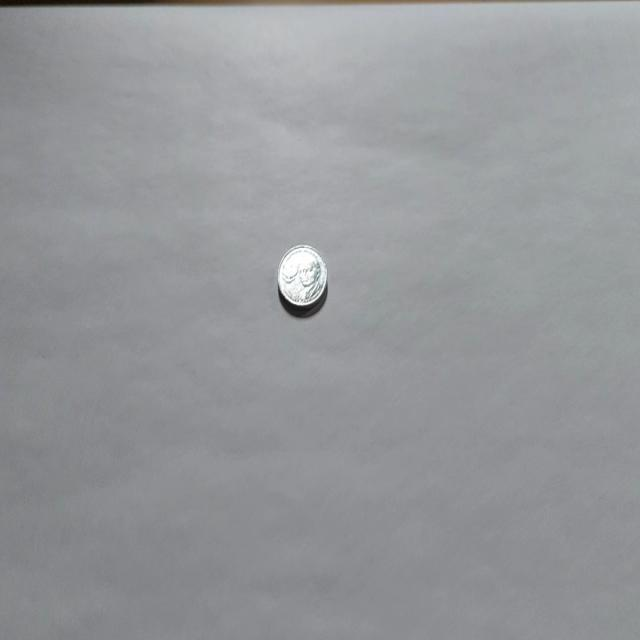lima ratus rupiah: (276, 242, 328, 314)
